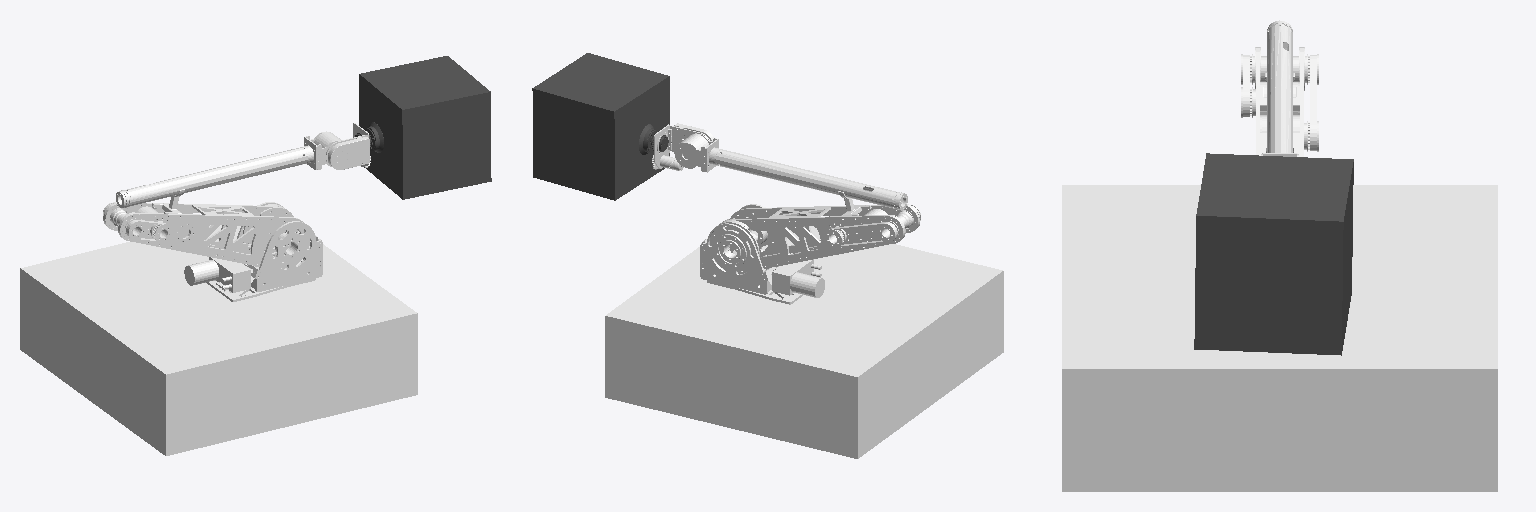
The robot description file, URDF, robot "arm":
<?xml version="1.0" ?>

<robot
  name="arm">
  <link name="world" />
  <joint name="world_joint" type="fixed">
      <origin xyz="0 0 0" rpy="0 0 0" />
      <parent link="world" />
      <child link="base_link" />
  </joint>
  <link
    name="base_link">
    <inertial>
      <origin
        xyz="-6.5477962354365E-17 7.78372639693089E-17 0.0915722515"
        rpy="0 0 0" />
      <mass
        value="63.7526014943" />
      <inertia
        ixx="2.0275553780558"
        ixy="-1.08514499899575E-16"
        ixz="6.82324567217544E-17"
        iyy="2.0275553780558"
        iyz="1.02325538434307E-16"
        izz="3.69871343002764" />
    </inertial>
    <visual>
      <origin
        xyz="0 0 0"
        rpy="0 0 0" />
      <geometry>
        <mesh
          filename="package://arm_description/meshes/base_link.STL" />
      </geometry>
      <material
        name="">
        <color
          rgba="1 1 1 1" />
      </material>
    </visual>
    <collision>
      <origin
        xyz="0 0 0"
        rpy="0 0 0" />
      <geometry>
        <mesh
          filename="package://arm_description/meshes/base_link.STL" />
      </geometry>
    </collision>
  </link>
  <link
    name="link0">
    <inertial>
      <origin
        xyz="-0.00560657802586788 0.037596323511427 0.0293952304883843"
        rpy="0 0 0" />
      <mass
        value="0.986663147055592" />
      <inertia
        ixx="0.00177439761596447"
        ixy="4.59693477574379E-07"
        ixz="7.54877435389141E-05"
        iyy="0.00181232616210676"
        iyz="2.27267318459451E-05"
        izz="0.000947779690542642" />
    </inertial>
    <visual>
      <origin
        xyz="0 0 0"
        rpy="0 0 0" />
      <geometry>
        <mesh
          filename="package://arm_description/meshes/link0.STL" />
      </geometry>
      <material
        name="">
        <color
          rgba="1 1 1 1" />
      </material>
    </visual>
    <collision>
      <origin
        xyz="0 0 0"
        rpy="0 0 0" />
      <geometry>
        <mesh
          filename="package://arm_description/meshes/link0.STL" />
      </geometry>
    </collision>
  </link>
  <joint
    name="joint0"
    type="revolute">
    <origin
    xyz="0.126 0 0.18314"
    rpy="1.5708 0 -1.5708" />
    <parent
      link="base_link" />
    <child
      link="link0" />
    <axis
      xyz="0 1 0" />
    <limit
      lower="-0.43633"
      upper="0.43633"
      effort="100.0"
      velocity="1.000001" />
  </joint>
  <link
    name="link1">
    <inertial>
      <origin
        xyz="-0.188365693681009 0.00290595232284403 -0.0110300279586938"
        rpy="0 0 0" />
      <mass
        value="1.50399441771564" />
      <inertia
        ixx="0.0010548078021496"
        ixy="-4.74779062613972E-09"
        ixz="-0.000461954602598778"
        iyy="0.00915460917188523"
        iyz="-5.91513260460803E-10"
        izz="0.00838550650591593" />
    </inertial>
    <visual>
      <origin
        xyz="0 0 0"
        rpy="0 0 0" />
      <geometry>
        <mesh
          filename="package://arm_description/meshes/link1.STL" />
      </geometry>
      <material
        name="">
        <color
          rgba="1 1 1 1" />
      </material>
    </visual>
    <collision>
      <origin
        xyz="0 0 0"
        rpy="0 0 0" />
      <geometry>
        <mesh
          filename="package://arm_description/meshes/link1.STL" />
      </geometry>
    </collision>
  </link>
  <joint
    name="joint1"
    type="revolute">
    <origin
      xyz="0 0.085 -0.0125"
      rpy="3.1416 1.1834 -1.5708" />
    <parent
      link="link0" />
    <child
      link="link1" />
    <axis
      xyz="0 1 0" />
    <limit
      lower="0"
      upper="1.605702"
      effort="100.0"
      velocity="1.000001" />
  </joint>
  <link
    name="link2">
    <inertial>
      <origin
        xyz="-0.151463382758811 -4.28658320911978E-06 0.074961366378224"
        rpy="0 0 0" />
      <mass
        value="2.10942636209109" />
      <inertia
        ixx="0.00163375965453018"
        ixy="3.63545377042365E-07"
        ixz="4.13804317687395E-06"
        iyy="0.0117419025237459"
        iyz="-9.1534280243675E-08"
        izz="0.0115823521434399" />
    </inertial>
    <visual>
      <origin
        xyz="0 0 0"
        rpy="0 0 0" />
      <geometry>
        <mesh
          filename="package://arm_description/meshes/link2.STL" />
      </geometry>
      <material
        name="">
        <color
          rgba="0.898039215686275 0.917647058823529 0.929411764705882 1" />
      </material>
    </visual>
    <collision>
      <origin
        xyz="0 0 0"
        rpy="0 0 0" />
      <geometry>
        <mesh
          filename="package://arm_description/meshes/link2.STL" />
      </geometry>
    </collision>
  </link>
  <joint
    name="joint2"
    type="revolute">
    <origin
      xyz="-0.37928 0 -0.023331"
      rpy="0 0.38736 3.1416" />
    <parent
      link="link1" />
    <child
      link="link2" />
    <axis
      xyz="0 -1 0" />
    <limit
      lower="-1.672025" 
      upper="0"
      effort="100.0"
      velocity="1.000001" />
  </joint>
  <link
    name="link3">
    <inertial>
      <origin
        xyz="-0.000149774705072862 0.412431255089839 -2.17729500558983E-05"
        rpy="0 0 0" />
      <mass
        value="0.599886861290668" />
      <inertia
        ixx="0.00268349162424545"
        ixy="1.08429473423732E-06"
        ixz="-1.0384455493122E-07"
        iyy="0.000188182393410735"
        iyz="-1.87806328453845E-06"
        izz="0.00266735580622077" />
    </inertial>
    <visual>
      <origin
        xyz="0 0 0"
        rpy="0 0 0" />
      <geometry>
        <mesh
          filename="package://arm_description/meshes/link3.STL" />
      </geometry>
      <material
        name="">
        <color
          rgba="1 1 1 1" />
      </material>
    </visual>
    <collision>
      <origin
        xyz="0 0 0"
        rpy="0 0 0" />
      <geometry>
        <mesh
          filename="package://arm_description/meshes/link3.STL" />
      </geometry>
    </collision>
  </link>
  <joint
    name="joint3"
    type="revolute">
    <origin
      xyz="0.03963 0 0.050535"
      rpy="-0.00088208 0 1.5708" />
    <parent
      link="link2" />
    <child
      link="link3" />
    <axis
      xyz="0 1 0" />
    <limit
      lower="-1.745329"
      upper="1.745329"
      effort="100.0"
      velocity="1.000001" />
  </joint>
  <link
    name="link4">
    <inertial>
      <origin
        xyz="-0.0458442430678111 0.0181196622435945 -0.0105458379805229"
        rpy="0 0 0" />
      <mass
        value="0.11561900144299" />
      <inertia
        ixx="4.16654249546574E-05"
        ixy="-1.8760524924004E-07"
        ixz="1.41382135109008E-10"
        iyy="7.22882479105776E-05"
        iyz="-5.35606380733285E-08"
        izz="5.11607476389383E-05" />
    </inertial>
    <visual>
      <origin
        xyz="0 0 0"
        rpy="0 0 0" />
      <geometry>
        <mesh
          filename="package://arm_description/meshes/link4.STL" />
      </geometry>
      <material
        name="">
        <color
          rgba="1 1 1 1" />
      </material>
    </visual>
    <collision>
      <origin
        xyz="0 0 0"
        rpy="0 0 0" />
      <geometry>
        <mesh
          filename="package://arm_description/meshes/link4.STL" />
      </geometry>
    </collision>
  </link>
  <joint
    name="joint4"
    type="revolute">
    <origin
      xyz="0 0.52217 0"
      rpy="0 0 -1.5708" />
    <parent
      link="link3" />
    <child
      link="link4" />
    <axis
      xyz="0 1 0" />
    <limit
      lower="-1.471312"
      upper="1.652826"
      effort="100.0"
      velocity="1.000001" />
  </joint>
  <link
    name="link5">
    <inertial>
      <origin
        xyz="-2.59363086563269E-11 0.00404571762456685 -1.53747502025244E-09"
        rpy="0 0 0" />
      <mass
        value="0.0687159909556414" />
      <inertia
        ixx="1.03938076412412E-05"
        ixy="-2.28974204958448E-15"
        ixz="-1.8969716151236E-13"
        iyy="1.99668702924928E-05"
        iyz="-4.4964508772517E-15"
        izz="1.03938070002922E-05" />
    </inertial>
    <visual>
      <origin
        xyz="0 0 0"
        rpy="0 0 0" />
      <geometry>
        <mesh
          filename="package://arm_description/meshes/link5.STL" />
      </geometry>
      <material
        name="">
        <color
          rgba="0.384313725490196 0.384313725490196 0.384313725490196 1" />
      </material>
    </visual>
    <collision>
      <origin
        xyz="0 0 0"
        rpy="0 0 0" />
      <geometry>
        <mesh
          filename="package://arm_description/meshes/link5.STL" />
      </geometry>
    </collision>
  </link>
  <joint
    name="joint5"
    type="revolute">
    <origin
      xyz="-0.083 0 0"
      rpy="-3.1415 1.5708 -1.5707" />
    <parent
      link="link4" />
    <child
      link="link5" />
    <axis
      xyz="0 -1 0" />
      
    <limit
      lower="-3.1416" 
      upper="3.1416"
      effort="100.0"
      velocity="1.000001" />
  </joint>

  <link name="link_slot">
    <inertial>
      <origin xyz="0 0 0.1" rpy="0 0 0" /> 
      <mass value="0.5" />
      <inertia 
        ixx="0.004817" ixy="0" ixz="0"
        iyy="0.004817" iyz="0"
        izz="0.004033" /> 
    </inertial>
    <visual>
      <origin xyz="0 0 0.1" rpy="0 0 0" />
      <geometry>
        <box size="0.2 0.2 0.2" /> 
      </geometry>
      <material name="slot_material">
        <color rgba="0.384 0.384 0.384 1" />
      </material>
    </visual>
    <collision>
      <origin xyz="0 0 0.1" rpy="0 0 0" />
      <geometry>
        <box size="0.2 0.2 0.2" />
      </geometry>
    </collision>
  </link>

  <joint name="joint_slot" type="fixed">
    <origin xyz="0.115 0 -0.1" rpy="0 0 0" /> 
    <parent link="end_link" />
    <child link="link_slot" />
    <axis xyz="0 0 0" />
  </joint>

  <link
    name="end_link">
  </link>
  <joint
    name="end_joint"
    type="fixed">
    <origin
    xyz="0 0.02 0"
    rpy="-1.5835 -0.06942 1.5717" />
    <parent
      link="link5" />
    <child
      link="end_link" />
    <axis
      xyz="0 0 0" />
  </joint>
  <link
    name="camera_link">
  </link>
  <joint
    name="camera_joint"
    type="fixed">
    <origin
      xyz="-0.20112 0 0.34082"
      rpy="0 0.00088208 -3.1416" />
    <parent
      link="link2" />
    <child
      link="camera_link" />
    <axis
      xyz="0 0 0" />
  </joint>

  <gazebo reference="base_link">
      <material>Gazebo/Black</material>
      <gravity>true</gravity>
      <selfCollide>false</selfCollide>
  </gazebo>
  <gazebo reference="link0">
      <material>Gazebo/Gray</material>
      <selfCollide>false</selfCollide>
  </gazebo>
  <gazebo reference="link1">
      <material>Gazebo/Gray</material>
      <selfCollide>false</selfCollide>
  </gazebo>
  <gazebo reference="link2">
      <material>Gazebo/Gray</material>
  </gazebo>
  <gazebo reference="link3">
      <material>Gazebo/Gray</material>
  </gazebo>
  <gazebo reference="link4">
      <material>Gazebo/Gray</material>
  </gazebo>
  <gazebo reference="link5">
      <material>Gazebo/Gray</material>
  </gazebo>
  <gazebo reference="end_link">
      <material>Gazebo/Gray</material>
  </gazebo>
  <gazebo reference="camera_link">
      <material>Gazebo/Orange</material>
      <selfCollide>false</selfCollide>
  </gazebo>
  <gazebo reference="link_slot">
      <material>Gazebo/Yellow</material>
      <selfCollide>false</selfCollide>
  </gazebo>

  <ros2_control name="GazeboSystem" type="system">
      <hardware>
          <plugin>gazebo_ros2_control/GazeboSystem</plugin>
      </hardware>
      <joint name="joint0">
          <command_interface name="position">
              <param name="min">-0.43633</param>
              <param name="max">0.43633</param>
          </command_interface>
          <state_interface name="position">
              <param name="initial_value">0.0</param>
          </state_interface>
          <state_interface name="velocity"/>
      </joint>
      <joint name="joint1">
          <command_interface name="position">
              <param name="min">-0.000001</param>
              <param name="max">1.605702</param>
          </command_interface>
          <state_interface name="position">
              <param name="initial_value">0.0</param>
          </state_interface>
          <state_interface name="velocity"/>
      </joint>
      <joint name="joint2">
          <command_interface name="position">
              <param name="min">-1.672025</param>
              <param name="max">0.0000001</param>
          </command_interface>
          <state_interface name="position">
              <param name="initial_value">0.0</param>
          </state_interface>
          <state_interface name="velocity"/>
      </joint>
      <joint name="joint3">
          <command_interface name="position">
              <param name="min">-1.745329</param>
              <param name="max">1.745329</param>
          </command_interface>
          <state_interface name="position">
              <param name="initial_value">0.0</param>
          </state_interface>
          <state_interface name="velocity"/>
      </joint>
      <joint name="joint4">
          <command_interface name="position">
              <param name="min">-1.471312</param>
              <param name="max">1.652826</param>
          </command_interface>
          <state_interface name="position">
              <param name="initial_value">0.0</param>
          </state_interface>
          <state_interface name="velocity"/>
      </joint>
      <joint name="joint5">
          <command_interface name="position">
              <param name="min">-3.1416</param>
              <param name="max">3.1416</param>
          </command_interface>
          <state_interface name="position">
              <param name="initial_value">0.0</param>
          </state_interface>
          <state_interface name="velocity"/>
      </joint>
     
  </ros2_control>

  <gazebo>
      <plugin name="gazebo_ros2_control" filename="libgazebo_ros2_control.so">
          <parameters>/home/benson/chart/gazebo/src/arm_moveit_config/config/ros2_controllers.yaml</parameters>
          <robot_param_node>robot_state_publisher</robot_param_node>
      </plugin>
  </gazebo>

</robot>

--- Facts derived from the render (not from the file) ---
Views: 3 orthographic renders of the robot side by side, from view 1: azimuth 30°, elevation 25°; view 2: azimuth 150°, elevation 25°; view 3: azimuth 270°, elevation 25°.
Robot: arm — 11 links, 10 joints (6 revolute, 4 fixed); root link world; default pose: all joints at 0.
Links seen in each view (by area): view 1: base_link, link_slot, link1, link0, link3, link4; view 2: base_link, link_slot, link1, link0, link3, link4; view 3: base_link, link_slot, link1, link3.
Boxes of the visible links, x1,y1,x2,y2 form: base_link: (20,225,417,455); link_slot: (359,56,491,199); link1: (103,189,309,268); link0: (184,202,322,301); link3: (116,131,341,207); link4: (326,123,370,169); base_link: (605,226,1003,458); link_slot: (532,53,669,200); link1: (710,191,920,274); link0: (700,204,824,304); link3: (674,133,907,210); link4: (652,123,713,170); base_link: (1062,185,1497,491); link_slot: (1194,153,1353,355); link1: (1241,47,1318,156); link3: (1261,20,1298,156).
Bounding box of the posed robot: 0.8806 × 0.59 × 0.541 m (x, y, z).
Meshes: 7 distinct files referenced, 6 mesh visuals loaded (6 binary STL); not drawn: 1 (reference not matched to a file when rendering).
